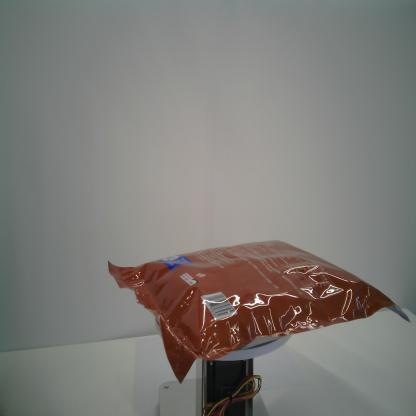Dried Food: (107, 239, 412, 385)
